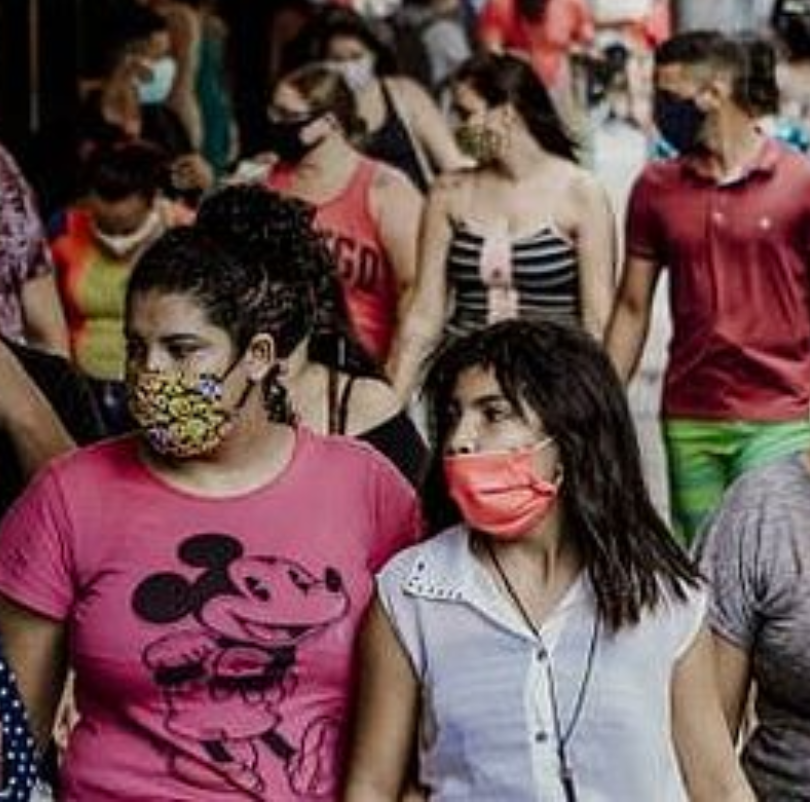mask_weared_incorrect: (425, 368, 592, 546)
with_mask: (117, 277, 286, 470)
